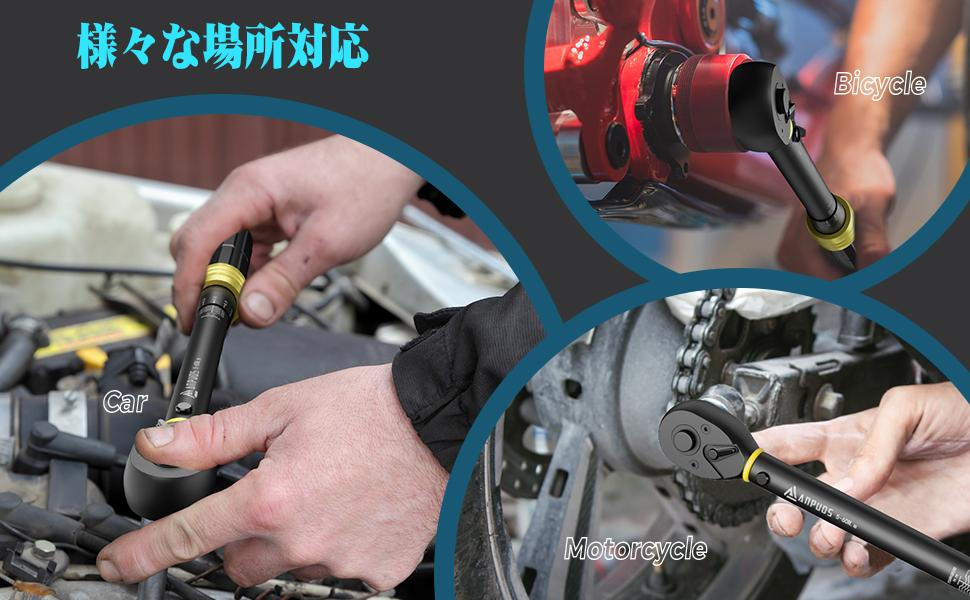Tool: (659, 401, 752, 486), (738, 61, 799, 153)
